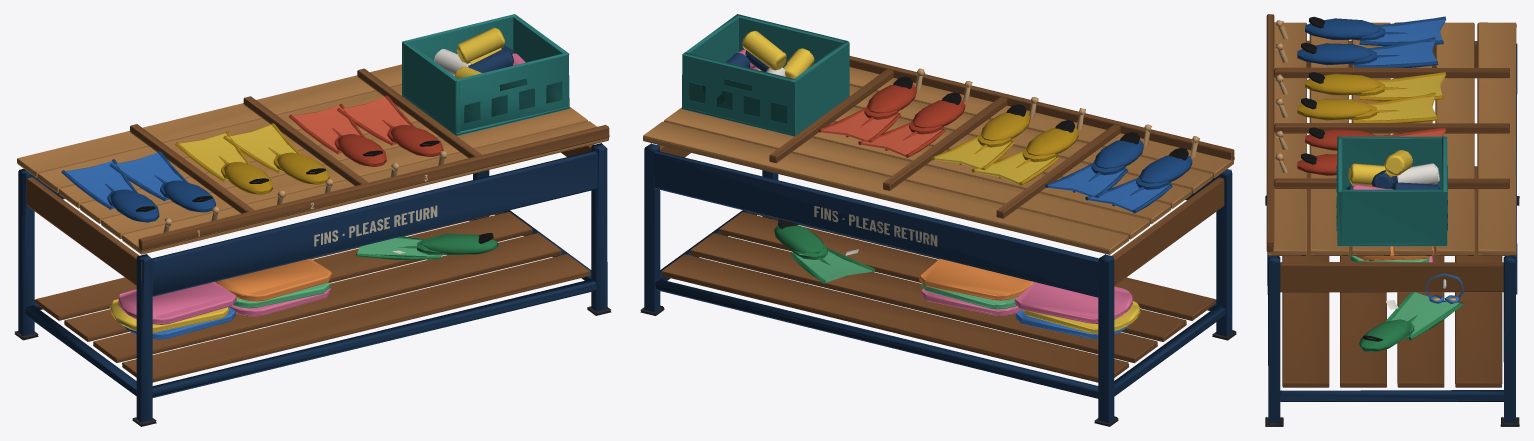
Rendered from fin-station.glb.
The picture shows the model from 3 angles, left to right: view 1: azimuth 30°, elevation 25°; view 2: azimuth 150°, elevation 25°; view 3: azimuth 270°, elevation 25°; orthographic projection.
Visible parts, largest first — view 1: Station_satin, Station_matte, Fins_1, Fins_2, Fins_3; view 2: Station_satin, Station_matte, Fins_1, Fins_3, Fins_2; view 3: Station_satin, Fins_1, Fins_2, Station_matte, Fins_3.
Part boxes in pixels (bbox=[...]): Station_satin: bbox=[17, 14, 609, 422]; Station_matte: bbox=[14, 27, 611, 426]; Fins_1: bbox=[61, 150, 215, 222]; Fins_2: bbox=[175, 123, 329, 194]; Fins_3: bbox=[289, 95, 443, 166]; Station_satin: bbox=[643, 14, 1234, 424]; Station_matte: bbox=[640, 31, 1236, 426]; Fins_1: bbox=[1045, 132, 1192, 213]; Fins_3: bbox=[818, 76, 965, 157]; Fins_2: bbox=[931, 104, 1078, 185]; Station_satin: bbox=[1266, 14, 1517, 423]; Fins_1: bbox=[1297, 16, 1445, 67]; Fins_2: bbox=[1297, 72, 1446, 123]; Station_matte: bbox=[1265, 150, 1519, 426]; Fins_3: bbox=[1297, 127, 1446, 175].
Size of the model in its own units: 2.13 by 1.05 by 0.9724.
